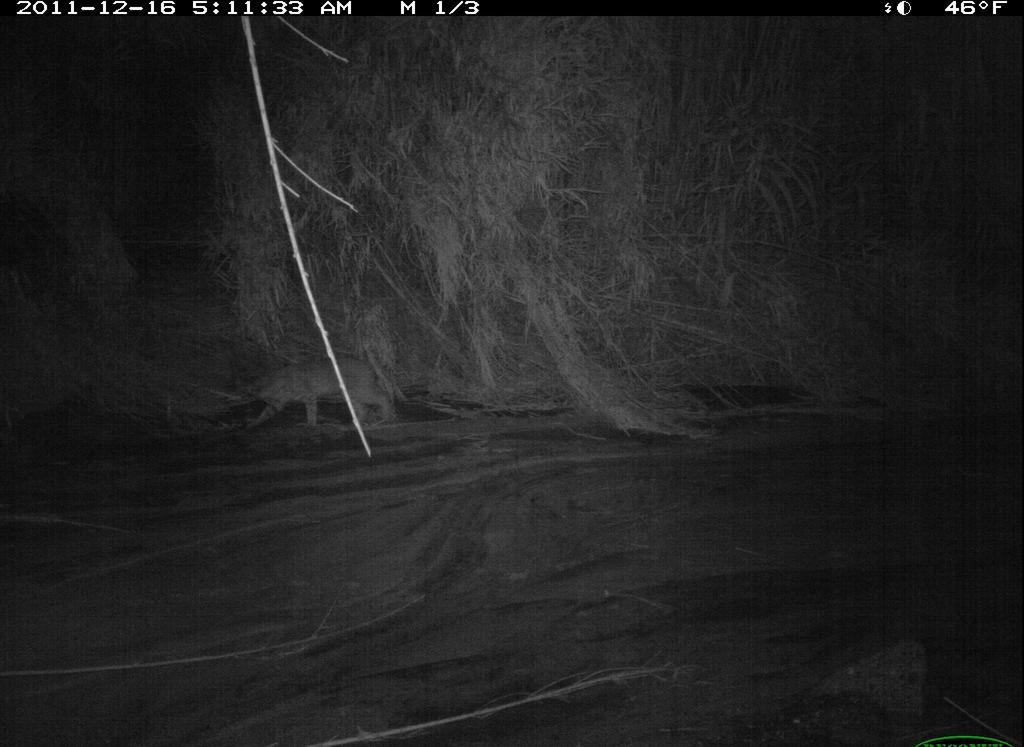bobcat: (233, 353, 399, 441)
